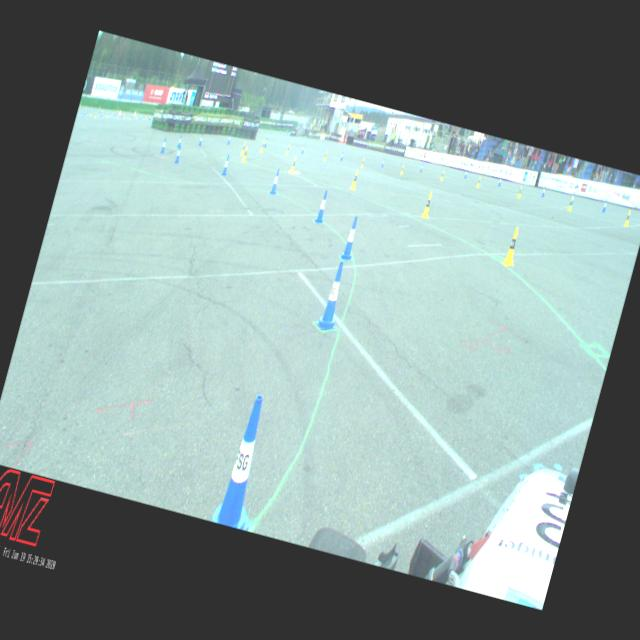blue_cone: (210, 391, 282, 531), (314, 259, 352, 333), (340, 215, 362, 260), (314, 189, 330, 223), (270, 168, 282, 194), (221, 155, 231, 175), (174, 145, 182, 163), (160, 138, 167, 154), (176, 134, 182, 148), (602, 199, 608, 212), (541, 186, 546, 197), (198, 134, 203, 145), (419, 163, 424, 172), (463, 169, 468, 178), (228, 134, 232, 144), (498, 176, 502, 186), (339, 152, 344, 160), (264, 138, 268, 147), (380, 158, 384, 167), (300, 144, 304, 153)
yellow_cone: (501, 226, 523, 267), (421, 190, 434, 218), (350, 169, 360, 190), (290, 156, 298, 173), (242, 146, 250, 162), (624, 210, 632, 226), (240, 142, 247, 156), (259, 139, 265, 152), (568, 198, 574, 211), (516, 186, 522, 198), (323, 150, 328, 161), (285, 144, 290, 155), (439, 170, 444, 180), (476, 176, 480, 187), (360, 157, 364, 167), (400, 164, 404, 174)
